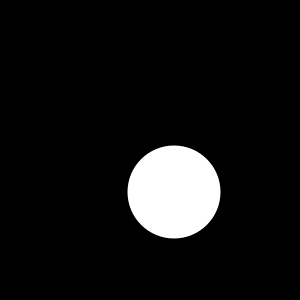rectangle: (127, 146, 220, 238)
